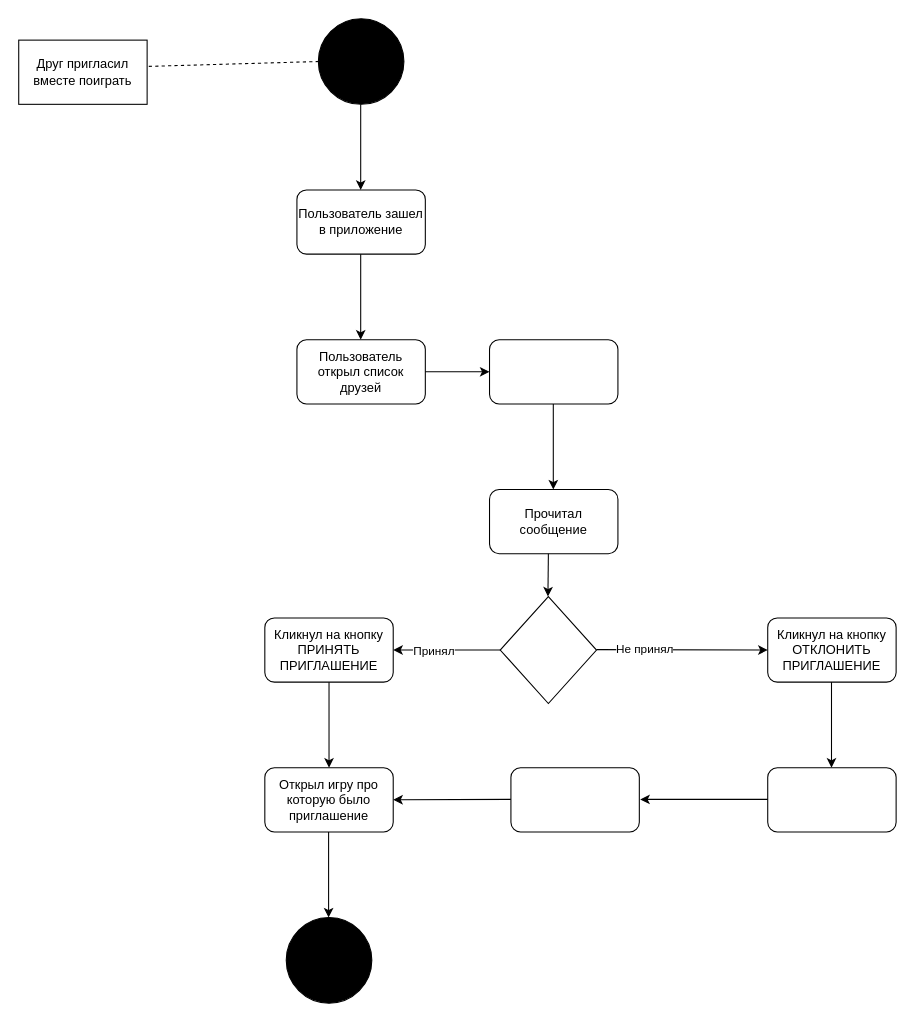
Some shapes in this 915 by 1022 pixel diagram are drawn without their labels. Here are the shapes that lost their labels. From the top down, the centre of each, then its label:
At pixel 553 371: "Пользователь открыл чат с другом приславшим приглашение".
At pixel 548 649: "Решил принять приглашение или нет".
At pixel 574 799: "В свободное время пригласил друга снова сыграть вместе".
At pixel 831 799: "Ответил по какой причине не может сыграть вместе".
